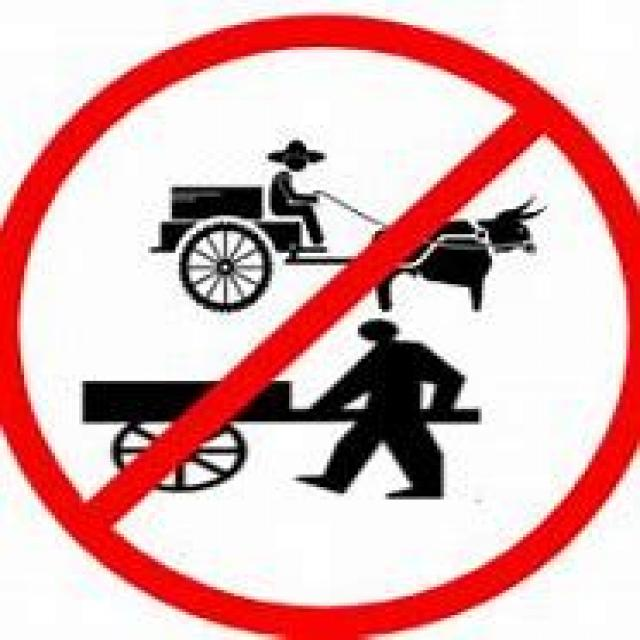BULLOCK_AND_HANDCART_PROHIBITED: (0, 9, 637, 637)
